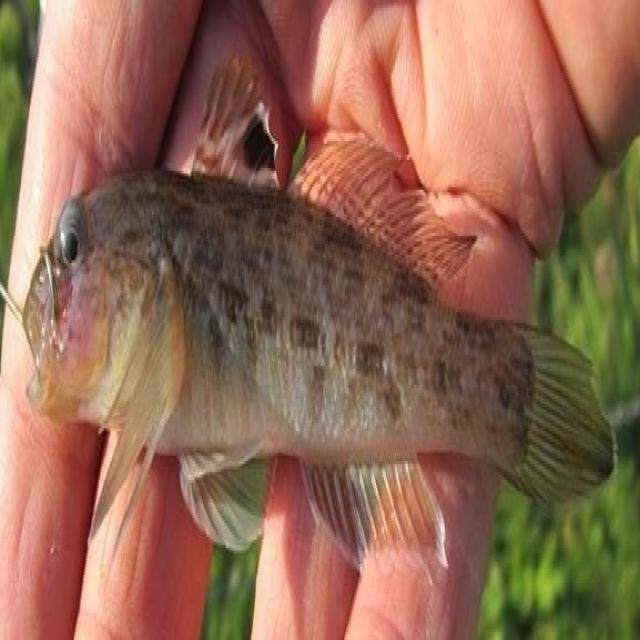Goby: (0, 62, 606, 638)
